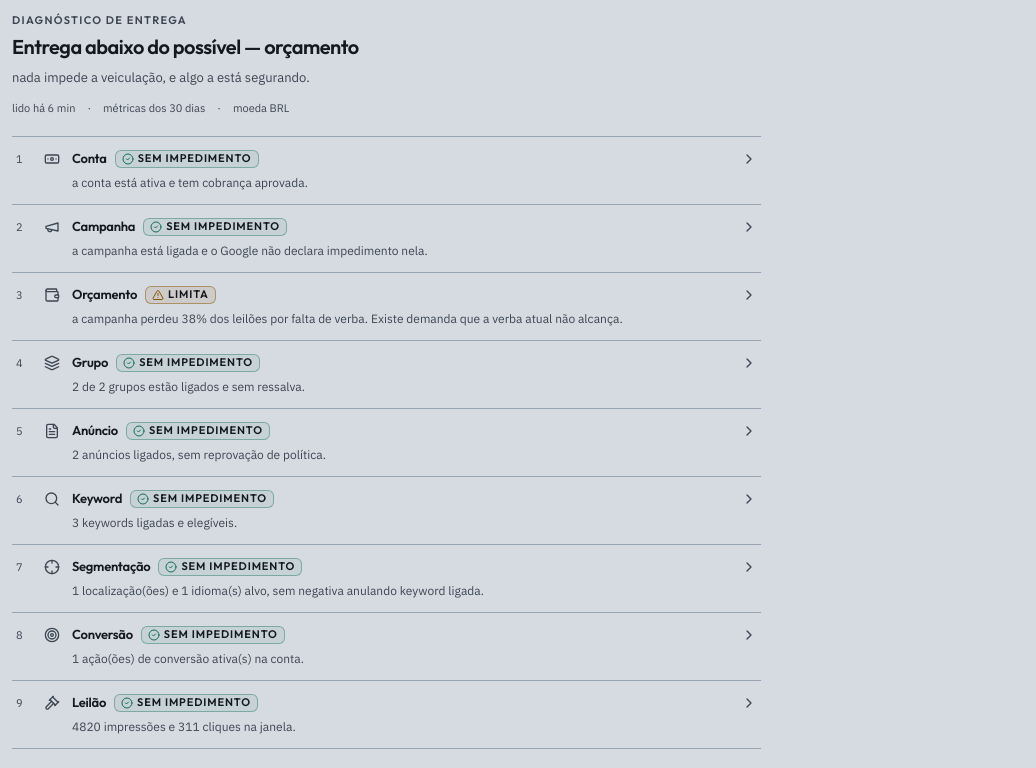
Test: a evidência abre no lugar, sem modal › o degrau expande inline, com `aria-expanded` e painel associado
Click the button "Orçamento" at (105, 294), box [12,273,761,340]
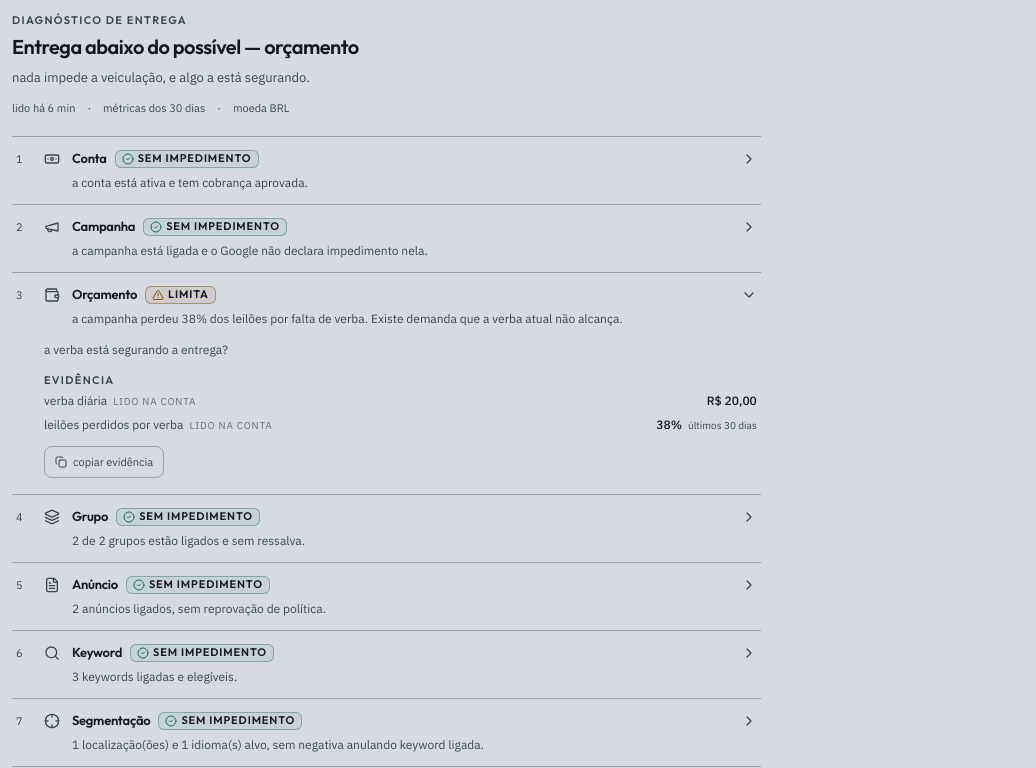
Now the button "Orçamento" is expanded, box [12,273,761,340]
Now the text "a verba está segurando a entrega?" is shown, box [44,342,228,357]
Now the text "leilões perdidos por verba" is shown, box [44,417,183,432]
